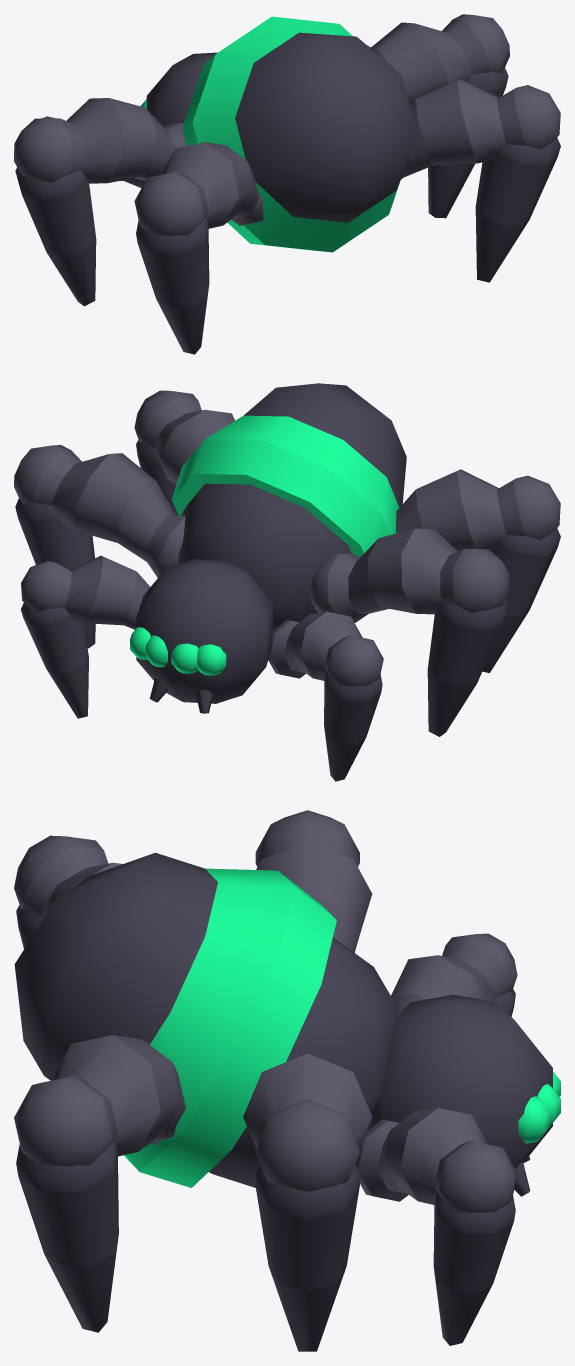
File: spider.glb
3 renders of one model, top to bottom at view 1: azimuth 30°, elevation 25°; view 2: azimuth 150°, elevation 25°; view 3: azimuth 270°, elevation 25°, orthographic. The views are drawn at different scales.
Visible parts, largest first — view 1: mergedBlocks(Clone); view 2: mergedBlocks(Clone); view 3: mergedBlocks(Clone).
Boxes of the visible parts, <box> form: mergedBlocks(Clone): <box>14,14,560,354</box>; mergedBlocks(Clone): <box>14,383,560,781</box>; mergedBlocks(Clone): <box>14,810,560,1351</box>.
Size of the model in its own units: 3.76 by 2.07 by 2.62.
